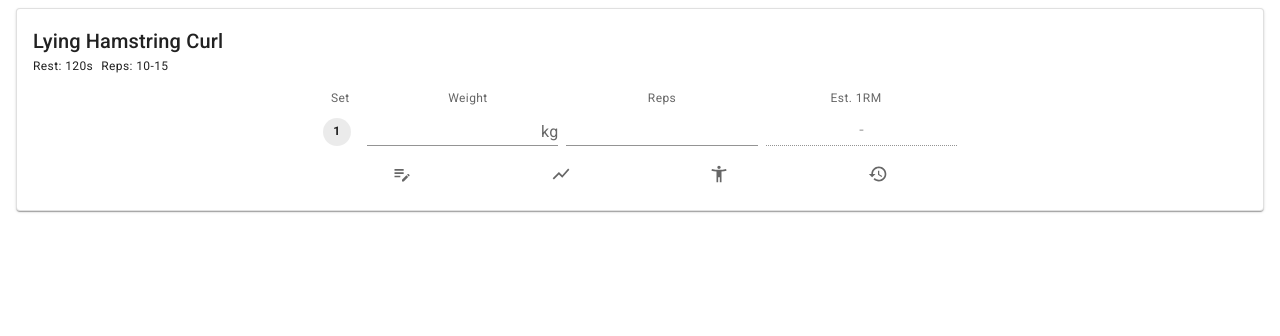
Test: ExerciseSlide › shows an empty state in history when no previous workout history exists
Click the tab named "history": click(878, 174) [799,158,957,190]
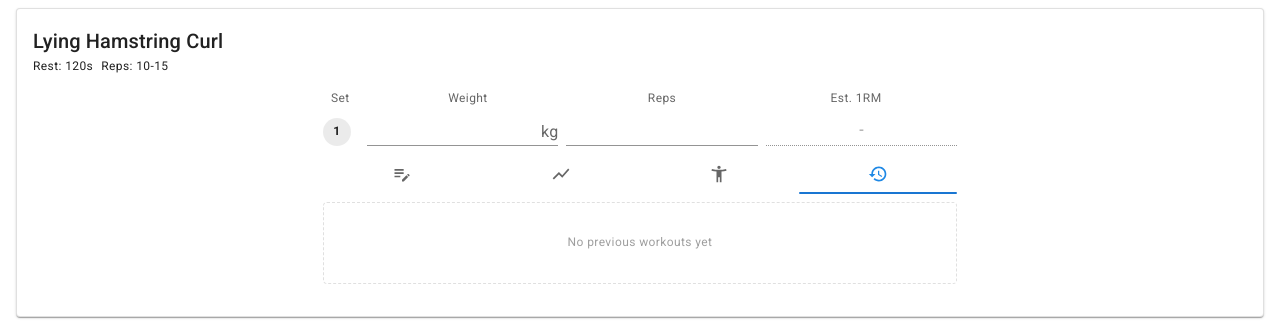
Result: the text "No previous workouts yet" is shown at [568,233,712,253]
